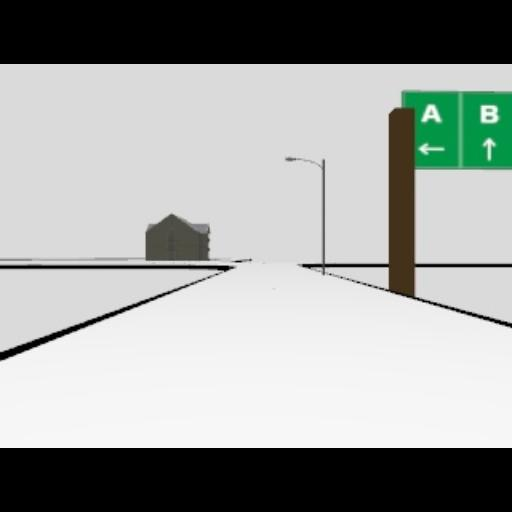A: (419, 102, 441, 124)
B: (480, 104, 498, 124)
Left: (416, 142, 446, 156)
Straight: (482, 136, 496, 160)
